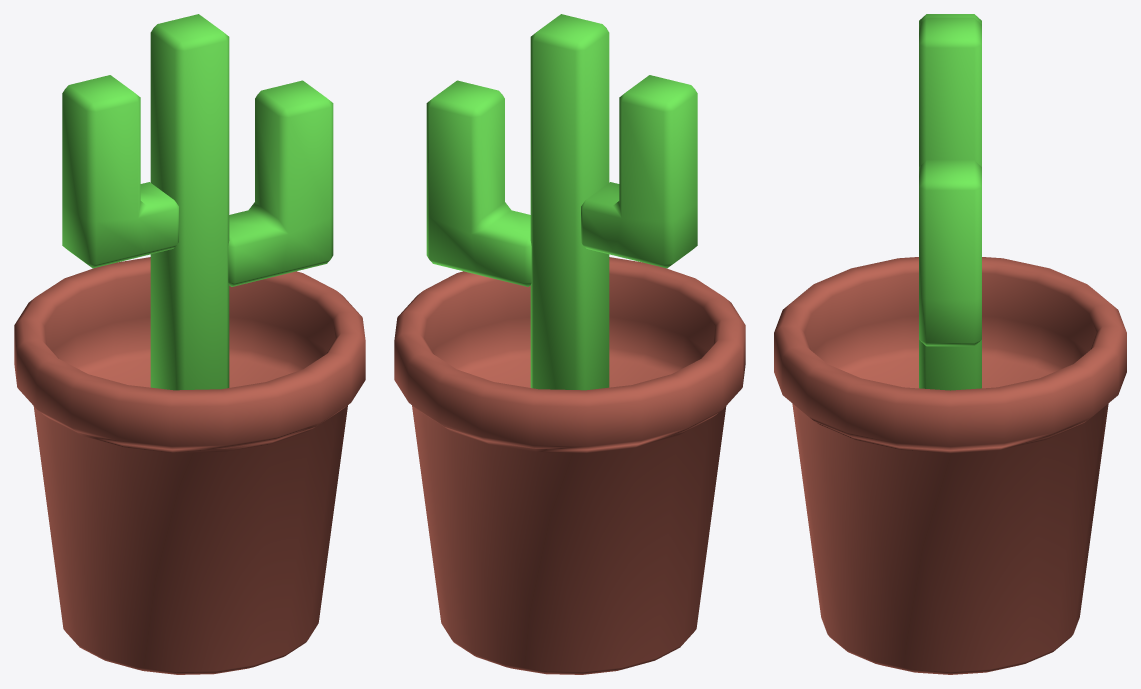
File: BedRoom_Plant.fbx
The picture shows the model from 3 angles, left to right: view 1: azimuth 30°, elevation 25°; view 2: azimuth 150°, elevation 25°; view 3: azimuth 270°, elevation 25°; orthographic projection.
Visible parts, largest first — view 1: Plant; view 2: Plant; view 3: Plant.
Boxes of the visible parts, x1,y1,x2,y2 form: Plant: [14, 14, 365, 674]; Plant: [394, 14, 745, 674]; Plant: [774, 14, 1126, 674].
Bounding box in the file's own units: 10.68 × 19.97 × 10.68.
